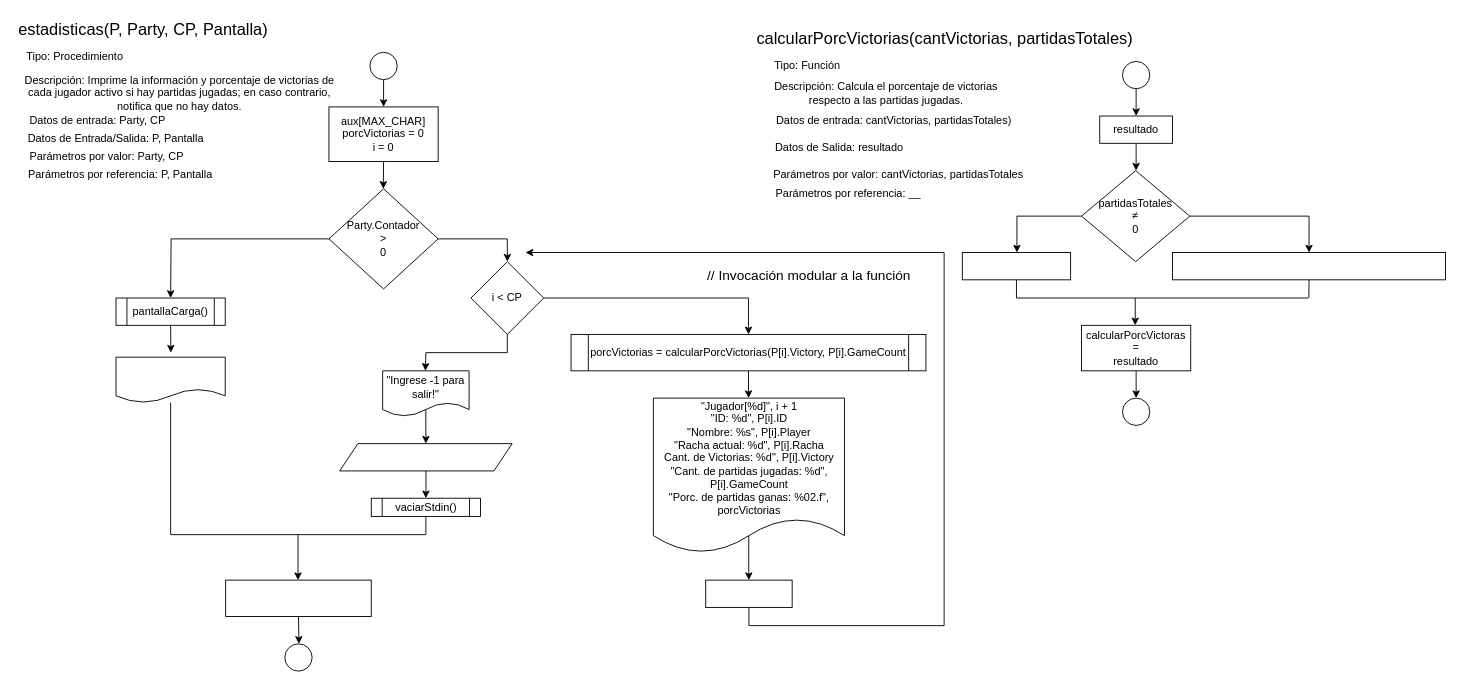
The diagram is 1461 pixels wide and 687 high, and some of its shapes have lost their labels. The box of each missing label's shape, as (x1, y1, x2, y2) in pixels:
"No se ha jugando ninguna partida": (115, 356, 225, 403)
fgets(aux, sizeof(aux), stdin): (339, 443, 512, 471)
i = i + 1: (705, 579, 792, 607)
Pantalla = Pantalla_menu: (225, 579, 371, 617)
resultado = (CanVictorias * 100.0f) / partidasTotales: (1172, 252, 1446, 280)
resultado = 0.0f: (961, 252, 1071, 280)
